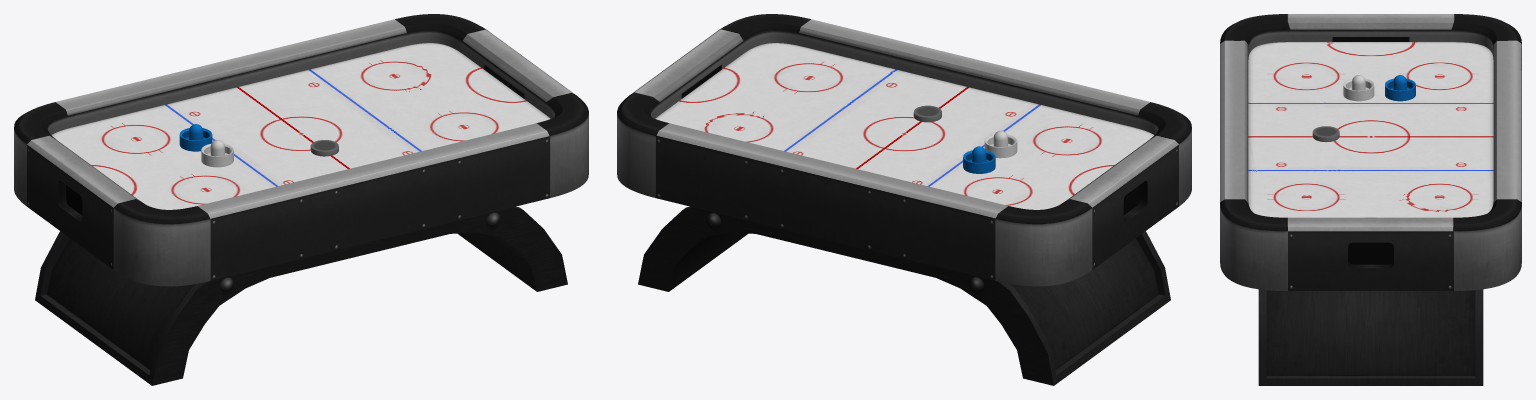
Rendered from zxc.FBX.
3 views of the same model, side by side, from view 1: azimuth 30°, elevation 25°; view 2: azimuth 150°, elevation 25°; view 3: azimuth 270°, elevation 25° (orthographic). The views are drawn at different scales.
Visible parts, largest first — view 1: Box01, Object01, Object02, Cylinder02, Cylinder03; view 2: Box01, Object01, Object02, Cylinder03, Cylinder02; view 3: Object01, Box01, Object02, Cylinder02, Cylinder03, Cylinder01.
Boxes of the visible parts, box(x1,y1,x2,y2) form: Box01: box(14, 14, 588, 286); Object01: box(51, 43, 550, 209); Object02: box(35, 206, 567, 385); Cylinder02: box(201, 140, 233, 167); Cylinder03: box(179, 124, 212, 151); Box01: box(617, 14, 1191, 286); Object01: box(655, 43, 1154, 209); Object02: box(638, 206, 1170, 385); Cylinder03: box(963, 146, 995, 173); Cylinder02: box(984, 130, 1017, 158); Object01: box(1248, 42, 1493, 217); Box01: box(1220, 14, 1521, 290); Object02: box(1258, 289, 1483, 385); Cylinder02: box(1343, 75, 1374, 101); Cylinder03: box(1385, 75, 1415, 101); Cylinder01: box(1312, 126, 1339, 142).
Size of the model in its own units: 71.16 by 26.24 by 41.99.
